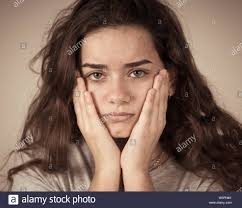Sad: (74, 53, 172, 140)
